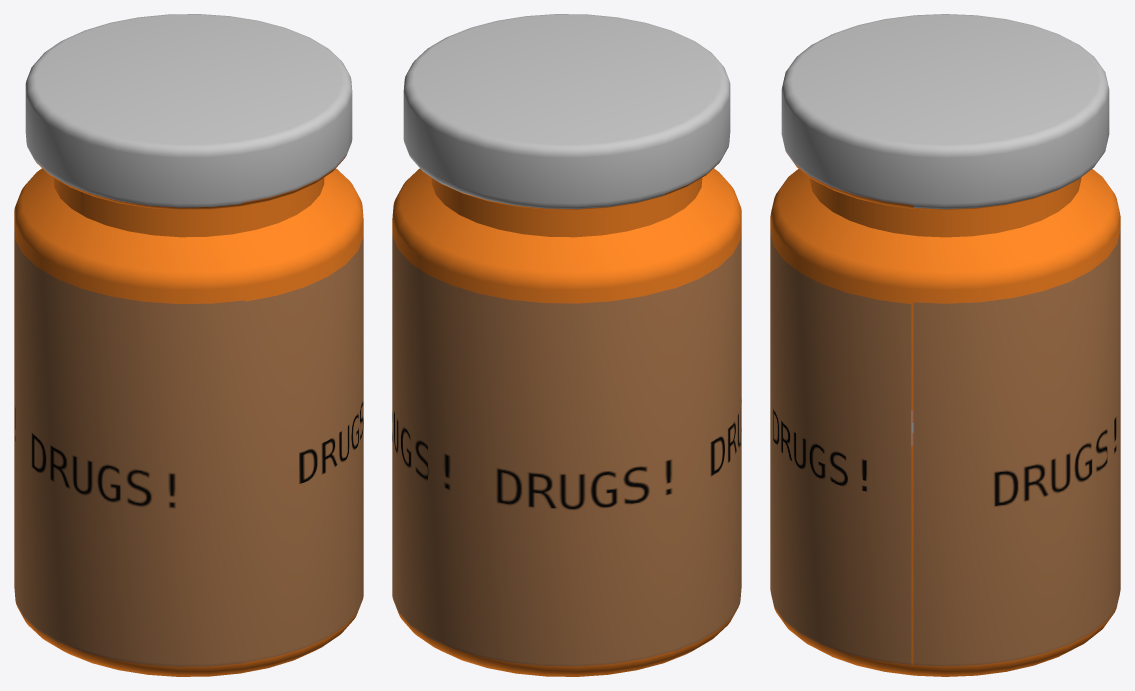
The model's file is PillBottle.fbx.
3 views of the same model, side by side, from view 1: azimuth 30°, elevation 25°; view 2: azimuth 150°, elevation 25°; view 3: azimuth 270°, elevation 25° (orthographic).
Visible parts, largest first — view 1: Cylinder; view 2: Cylinder; view 3: Cylinder.
Boxes of the visible parts, left/top/right/bottom form: Cylinder: left=14, top=14, right=363, bottom=676; Cylinder: left=392, top=14, right=741, bottom=676; Cylinder: left=770, top=14, right=1120, bottom=676.
Bounding box in the file's own units: 200 × 334 × 200.
